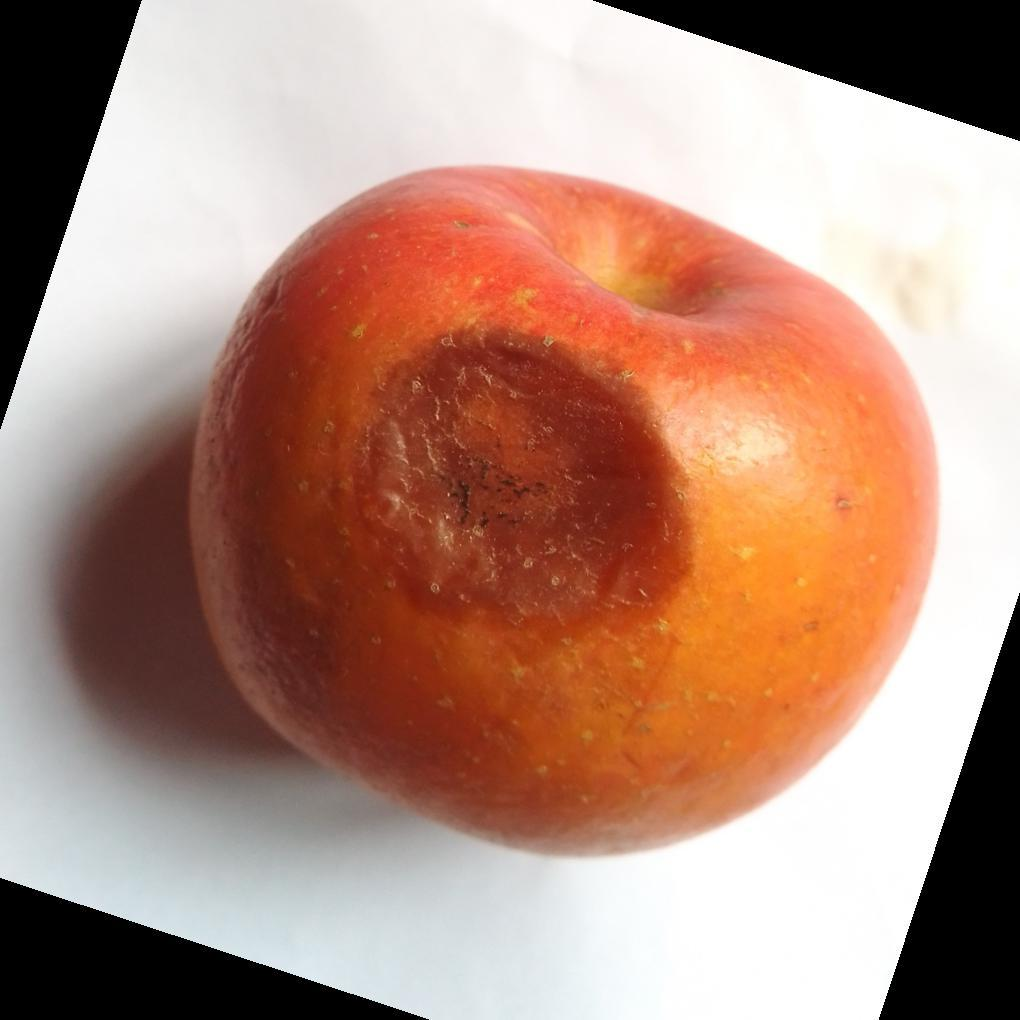FreshOrange: (183, 165, 944, 863)
